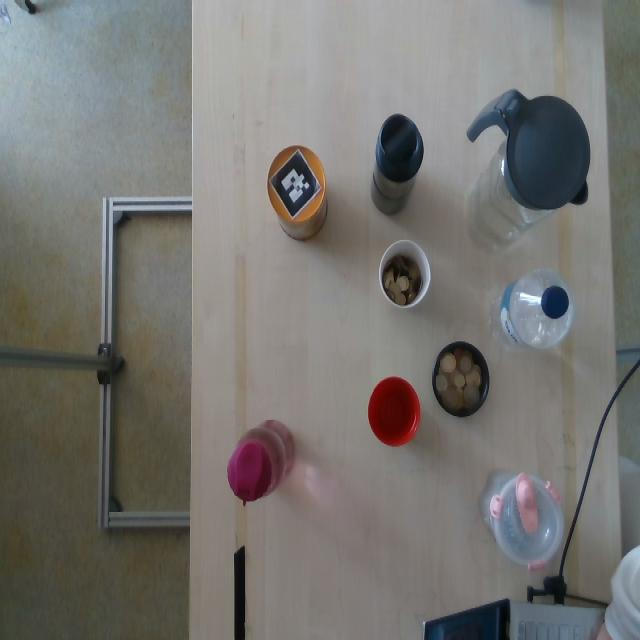cups: (474, 96, 590, 252), (479, 470, 562, 568), (494, 268, 573, 350), (266, 145, 328, 240), (228, 418, 293, 505), (370, 115, 424, 219), (433, 342, 488, 417), (367, 376, 421, 449), (380, 240, 430, 309)
